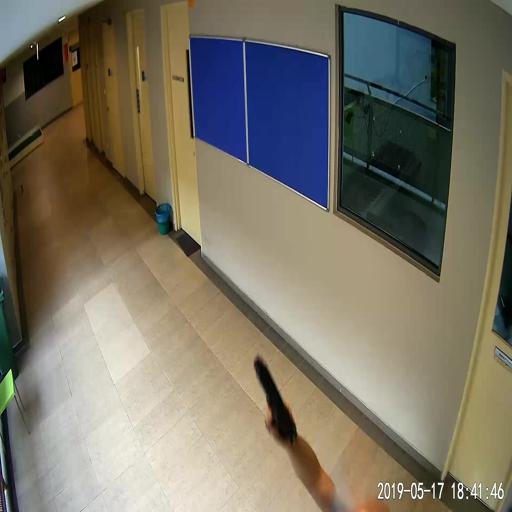pistol: (254, 355, 297, 445)
